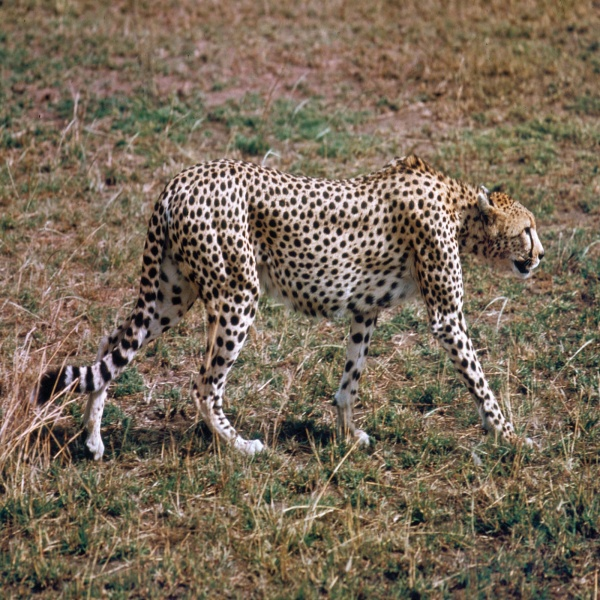Cheetah: (33, 155, 550, 463)
